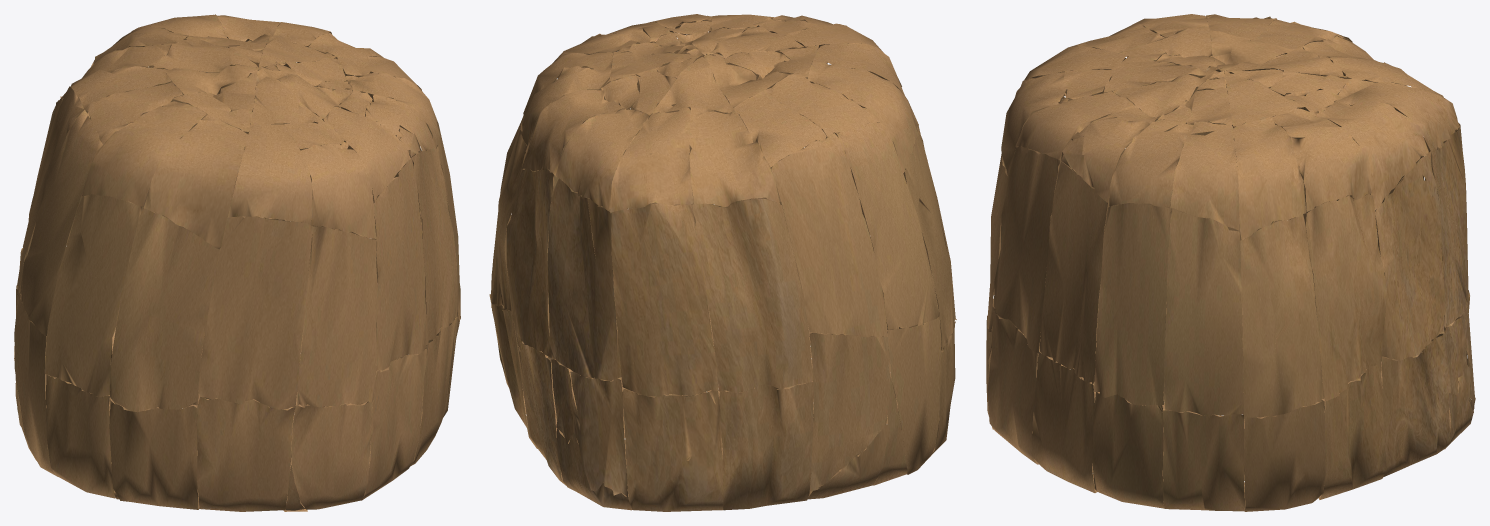
The model's file is bank_rock.glb.
3 views of the same model, side by side, from view 1: azimuth 30°, elevation 25°; view 2: azimuth 150°, elevation 25°; view 3: azimuth 270°, elevation 25° (orthographic). The views are drawn at different scales.
Parts seen in each view (by area): view 1: bank_rock; view 2: bank_rock; view 3: bank_rock.
Part boxes in pixels (x1,y1,x2,y2): bank_rock: (14,14,460,511); bank_rock: (489,14,956,511); bank_rock: (986,14,1475,511).
Size of the model in its own units: 2.03 by 1.71 by 2.05.
Materials: 1 (1 with a texture image).
